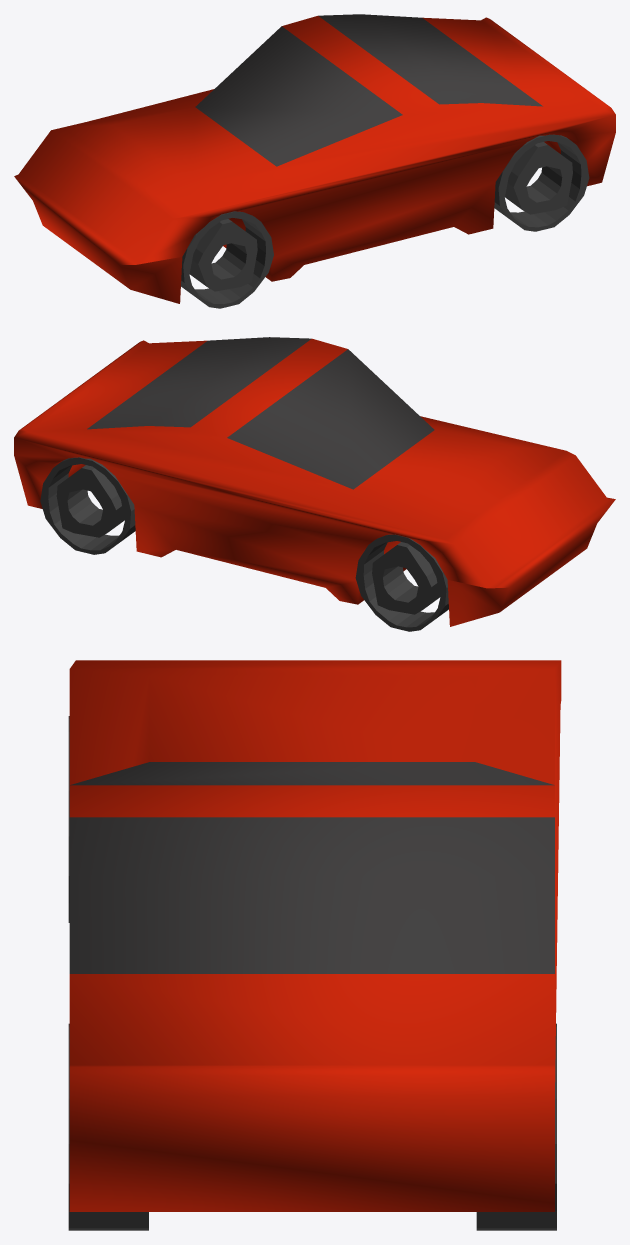
File: Car.glb
3 renders of one model, top to bottom at view 1: azimuth 30°, elevation 25°; view 2: azimuth 150°, elevation 25°; view 3: azimuth 270°, elevation 25°, orthographic. The views are drawn at different scales.
Parts seen in each view (by area): view 1: Cube, Cube.002; view 2: Cube, Cube.002; view 3: Cube, Cube.002.
Part boxes in pixels (box(x1,y1,x2,y2)): Cube: box(14, 14, 615, 303); Cube.002: box(181, 134, 589, 308); Cube: box(14, 337, 615, 626); Cube.002: box(40, 457, 448, 631); Cube: box(69, 660, 561, 1211); Cube.002: box(68, 716, 556, 1230).
Bounding box in the file's own units: 8.15 × 2.44 × 3.62.
